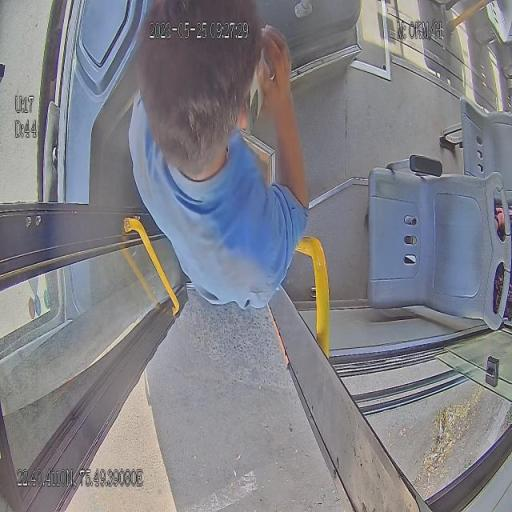persona: (127, 1, 310, 311)
